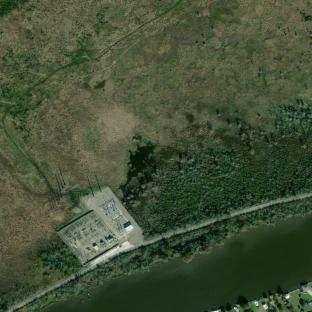Floresta: (25, 199, 312, 312)
